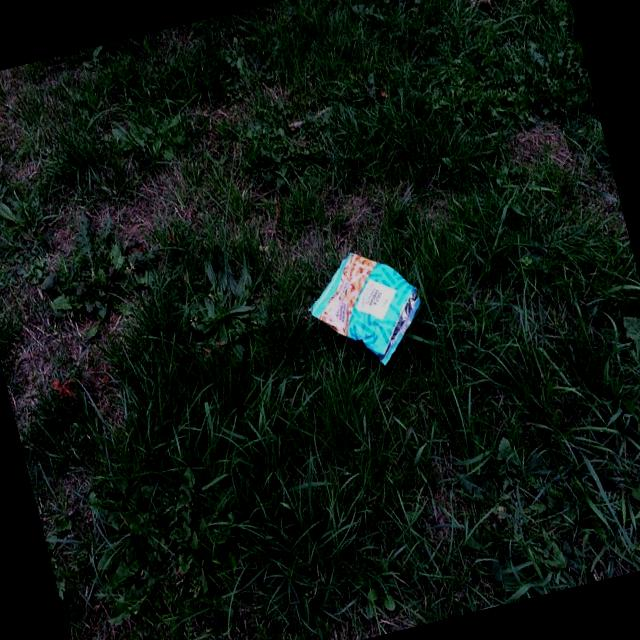Trash: (300, 235, 435, 378)
